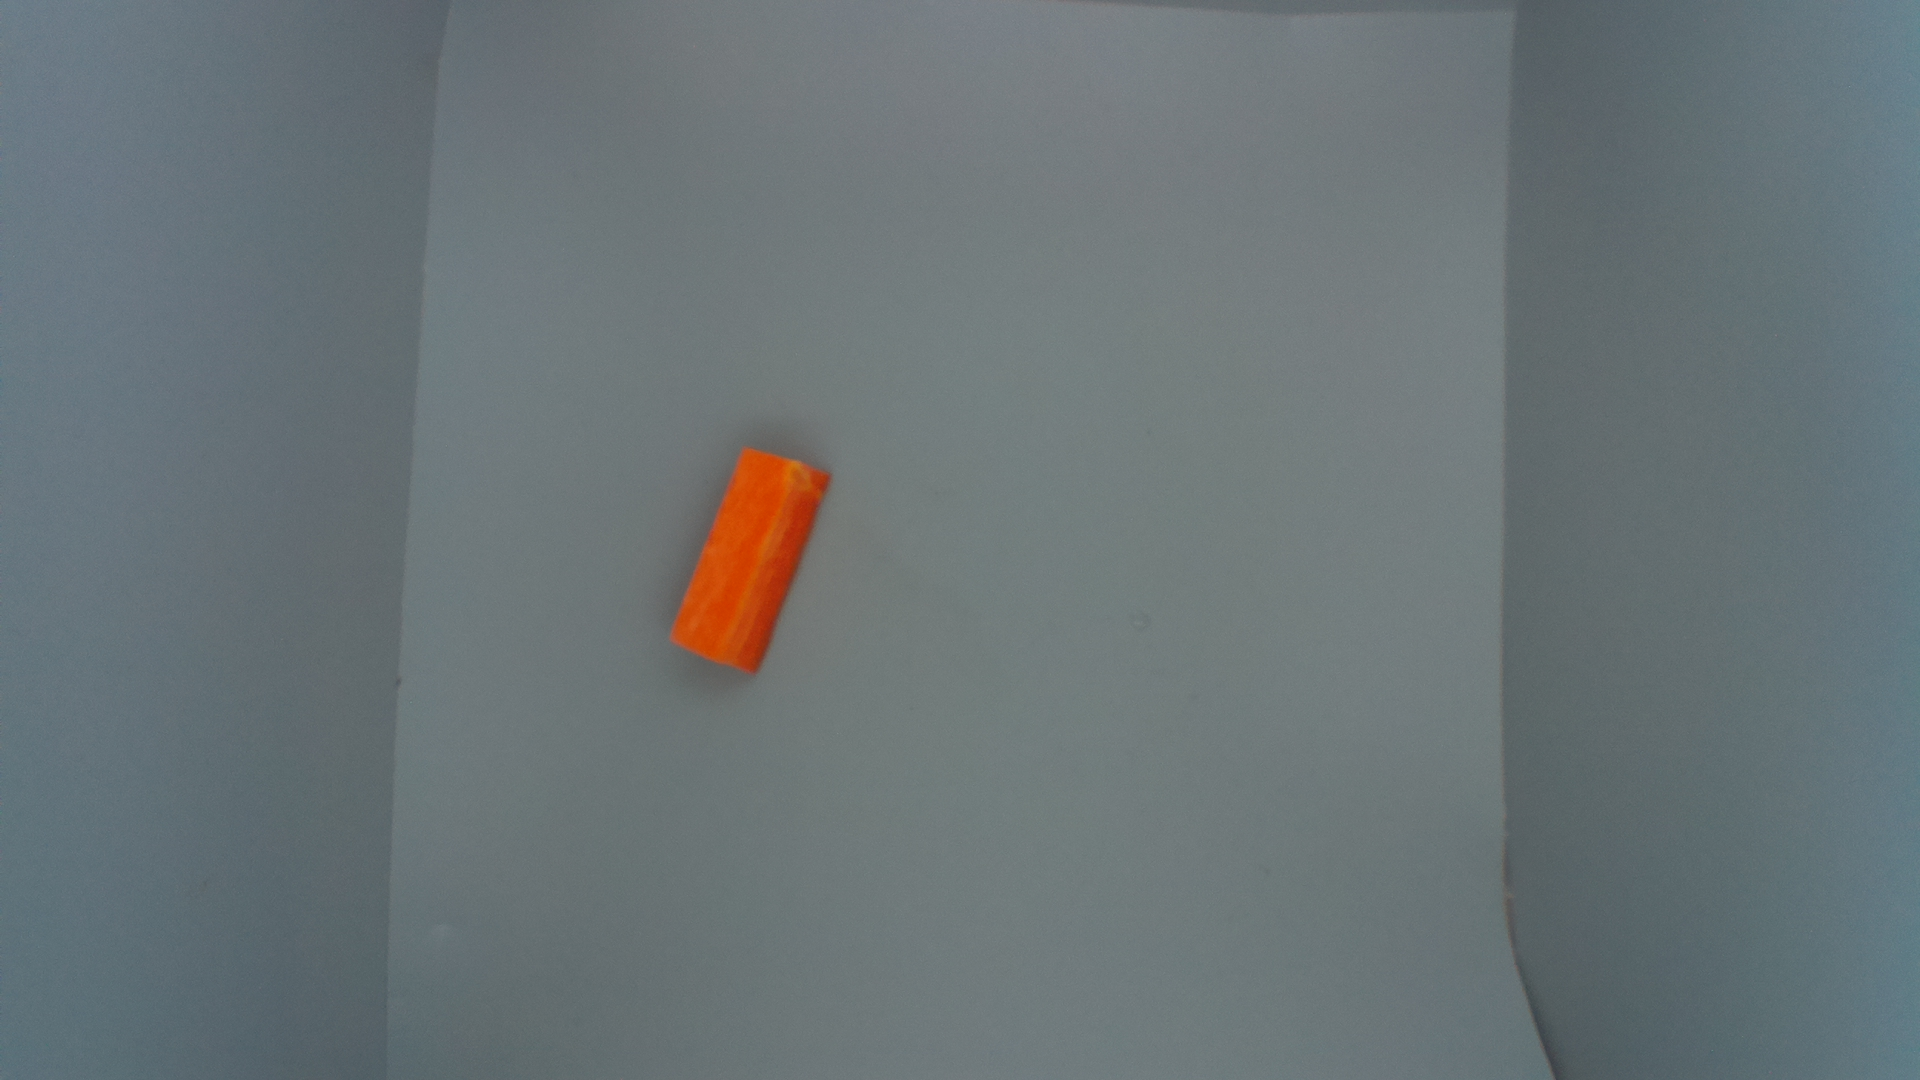carrot: (669, 444, 836, 684)
